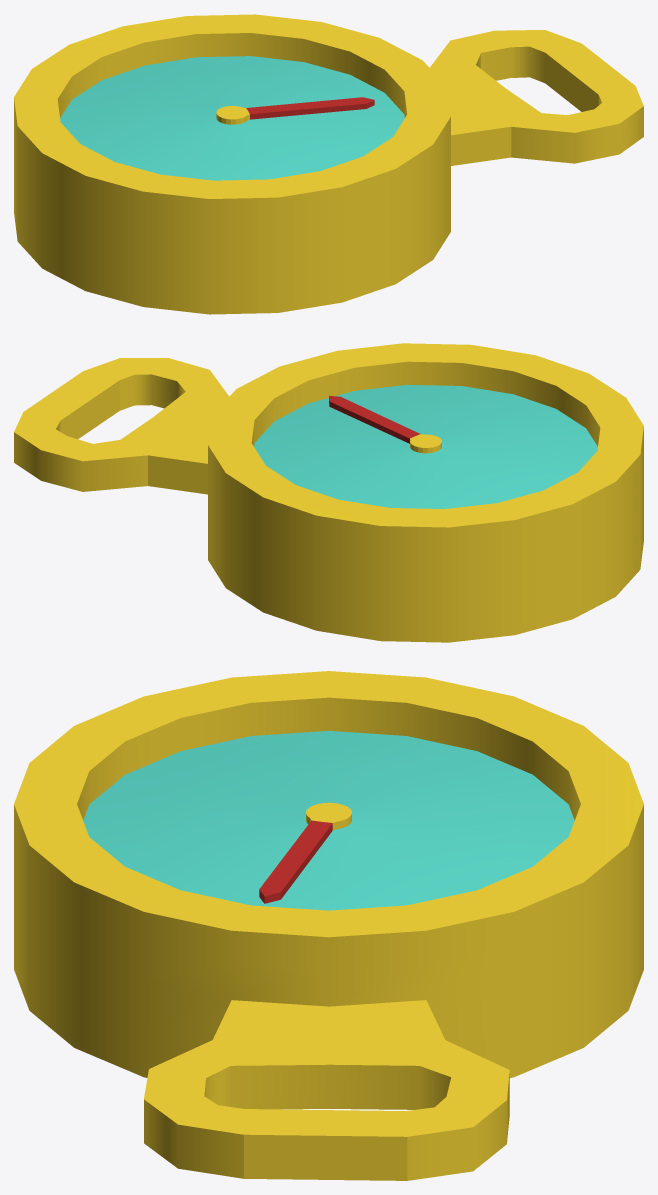
The model's file is Compass.fbx.
3 views of the same model, one above another, from view 1: azimuth 30°, elevation 25°; view 2: azimuth 150°, elevation 25°; view 3: azimuth 270°, elevation 25° (orthographic). The views are drawn at different scales.
Visible parts, largest first — view 1: Compass; view 2: Compass; view 3: Compass.
Boxes of the visible parts, x1=… form: Compass: x1=14, y1=14, x2=643, y2=314; Compass: x1=14, y1=343, x2=643, y2=642; Compass: x1=14, y1=671, x2=643, y2=1180.
Size of the model in its own units: 15.38 by 2.99 by 10.33.
